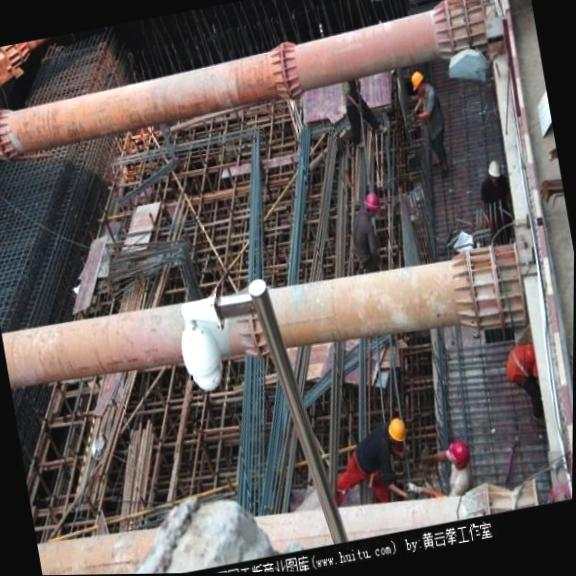no_safety_vest: (349, 424, 407, 489)
